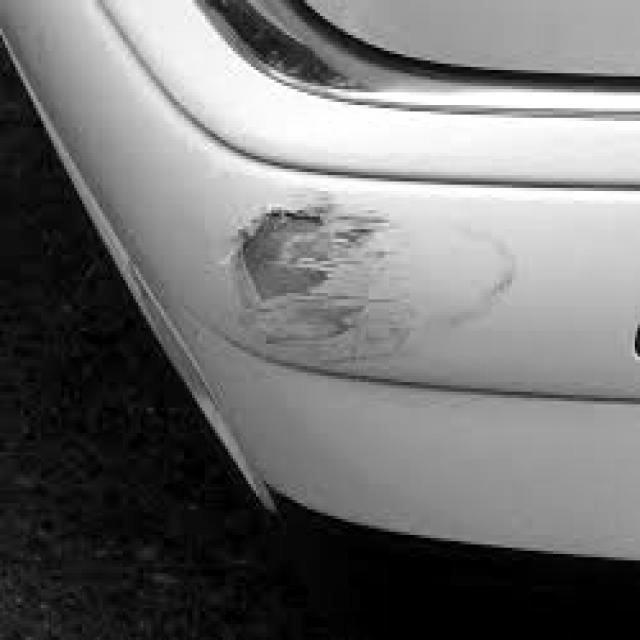rear-bumper-dent: (170, 141, 519, 417)
